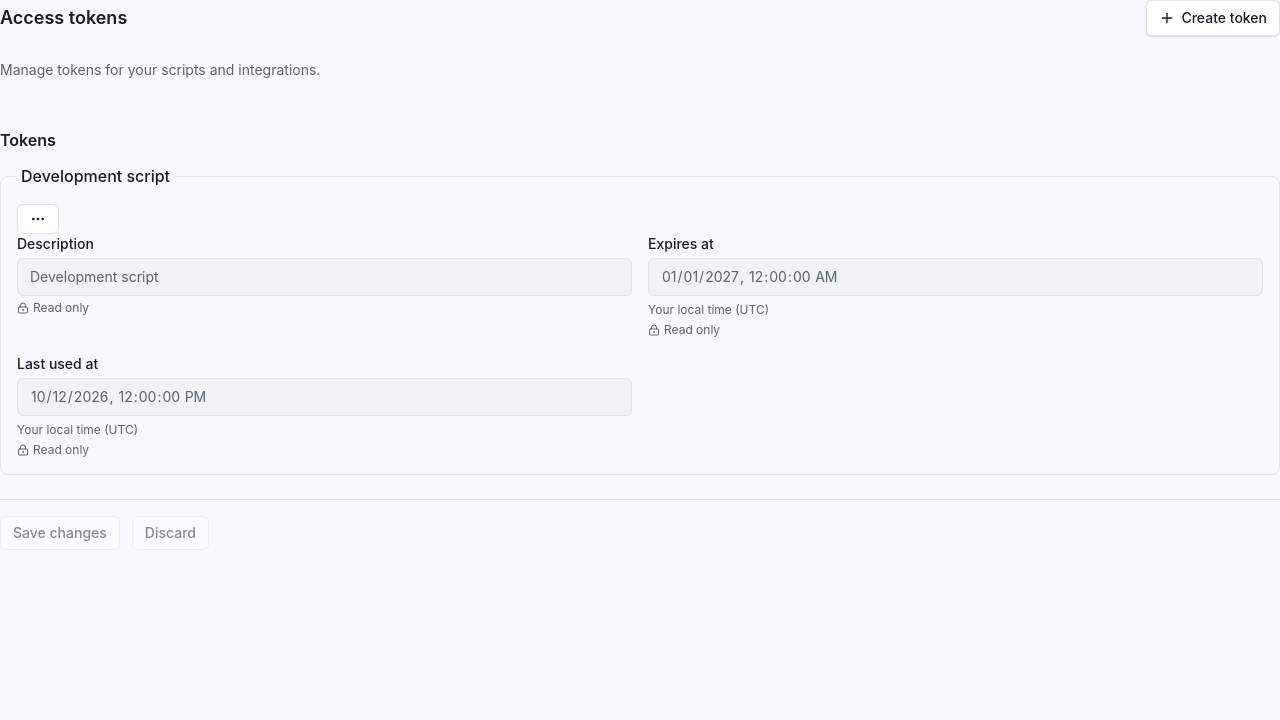
Scenario: confirms destructive row actions before POST and returns focus to the row menu
Click the button named "Actions for Development script" at (38, 219), box [17,204,59,234]
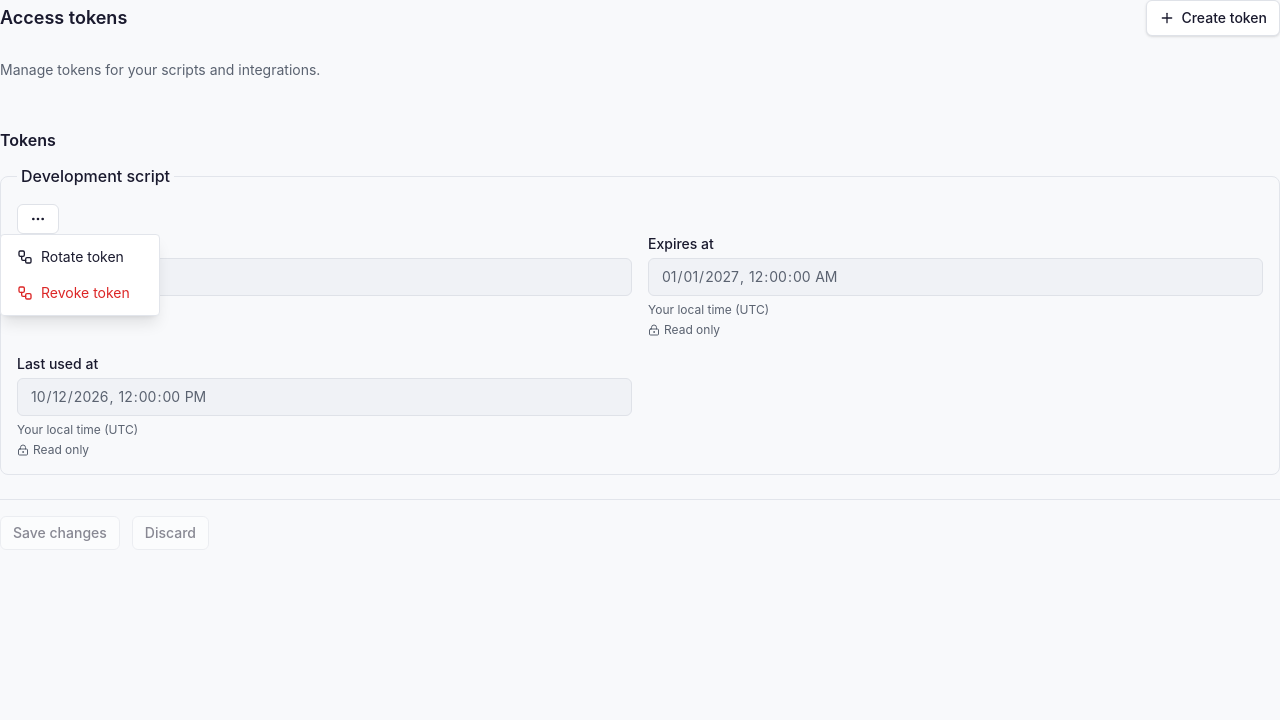
Click the menu item "Revoke token" at (73, 292), box [17,284,130,301]
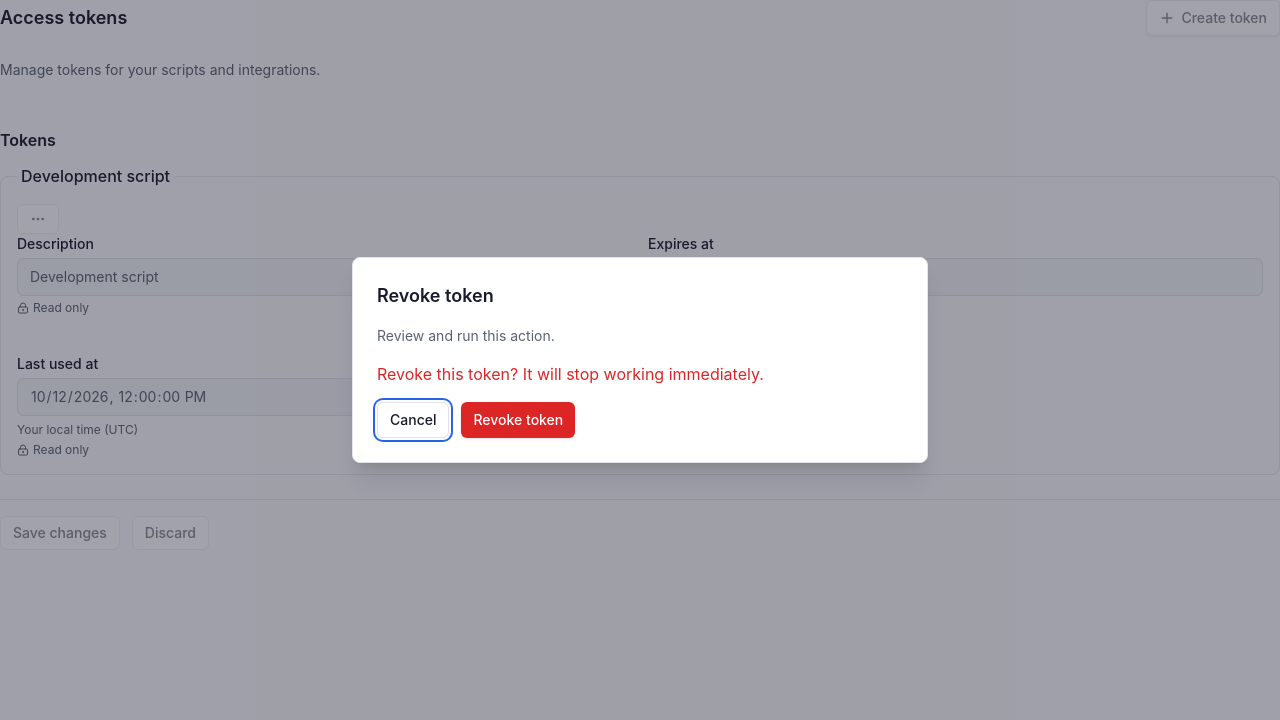
Expected: the dialog "Revoke token" shows "Revoke this token? It will stop working immediately.", [377,364,764,384]
Click the button "Revoke token" at (518, 420), box [462,402,575,438]
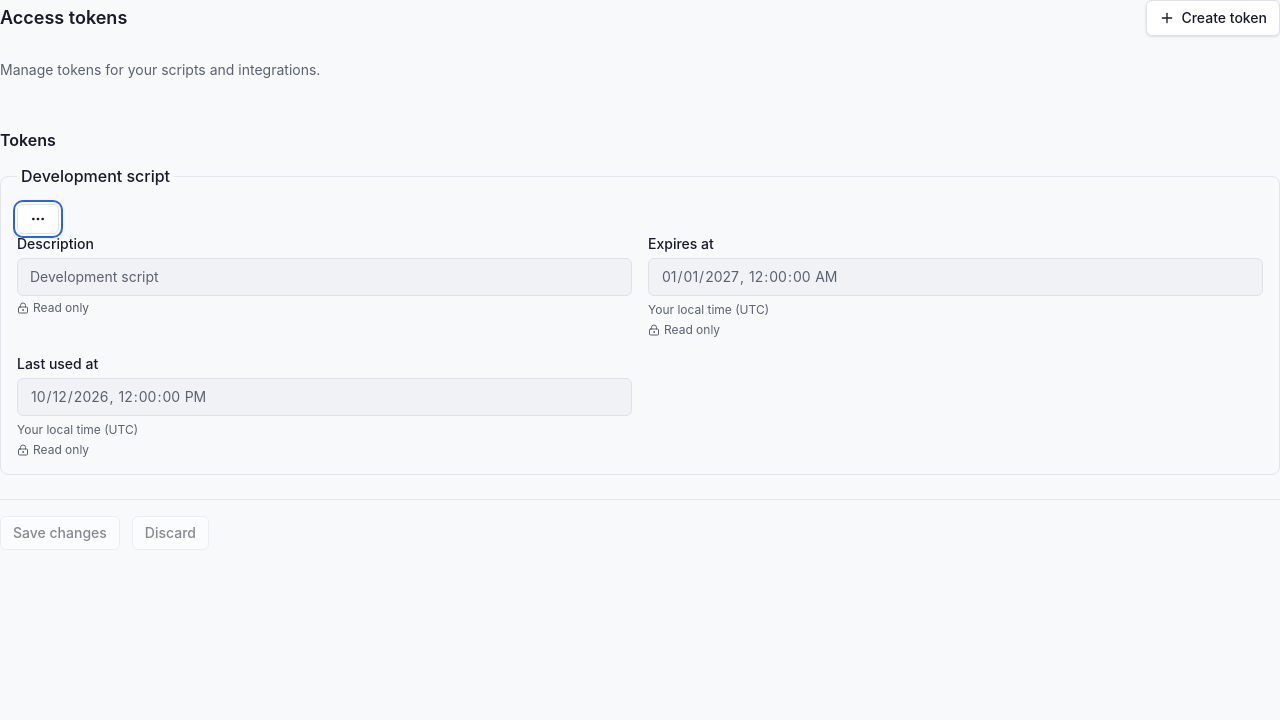
Expected: the dialog is gone
